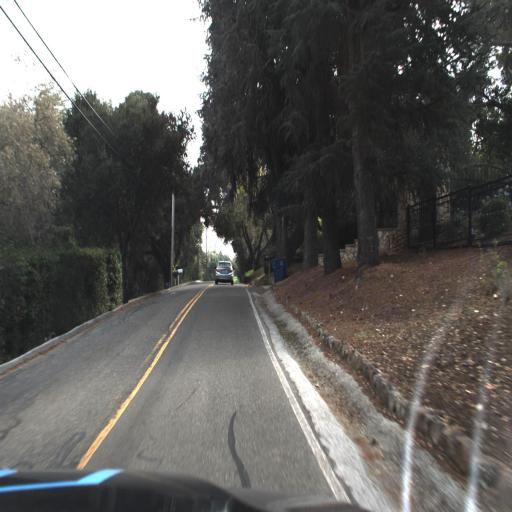car: (210, 253, 235, 289)
